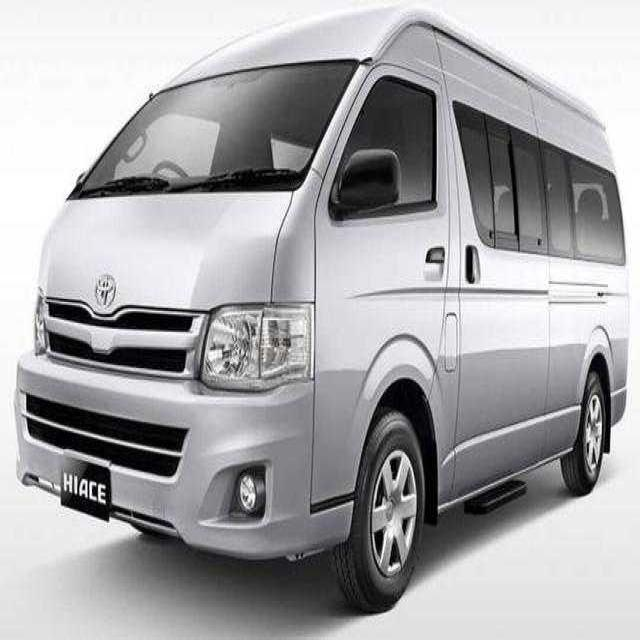Van: (14, 4, 631, 614)
